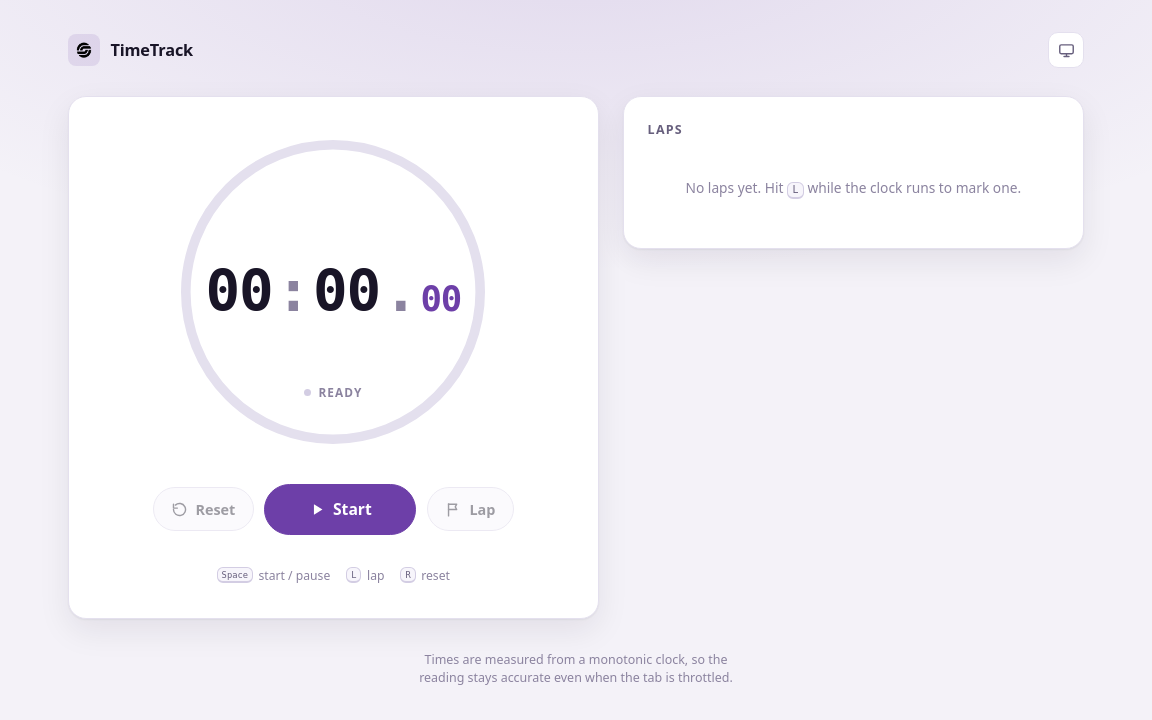
keyboard shortcuts and focused controls › still takes a letter shortcut while a button has focus
The image size is (1152, 720).
Click the button "Start" at (340, 509), box [264,484,416,535]
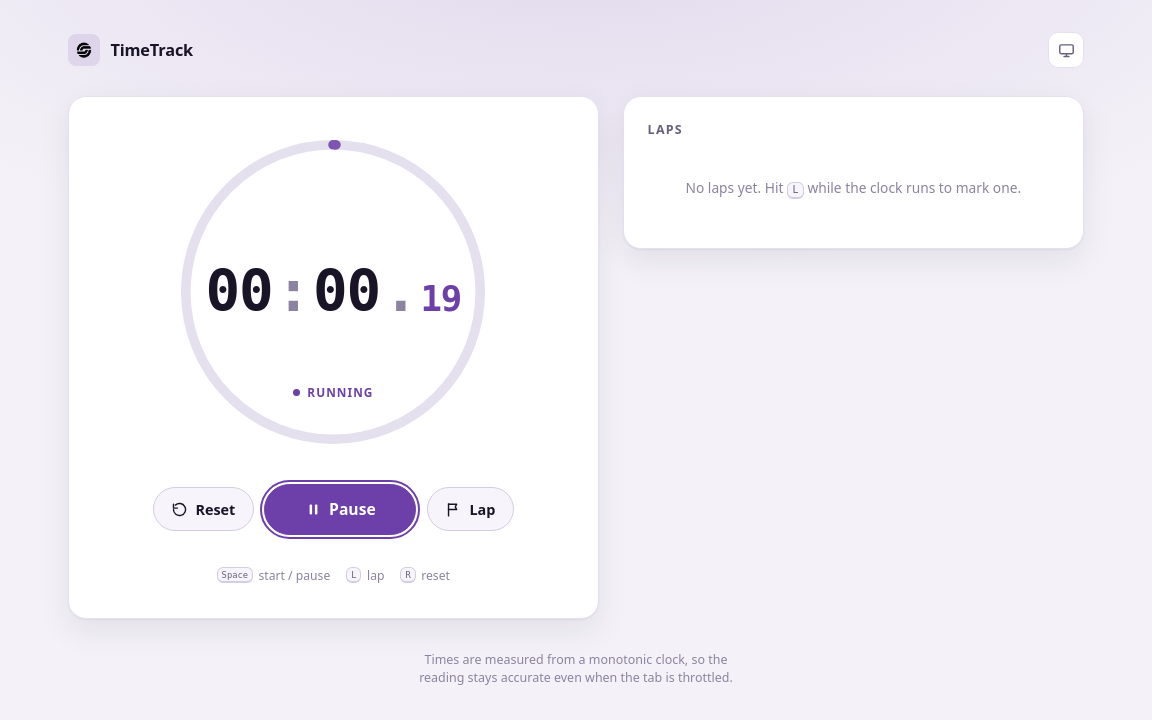
Type keys "l"
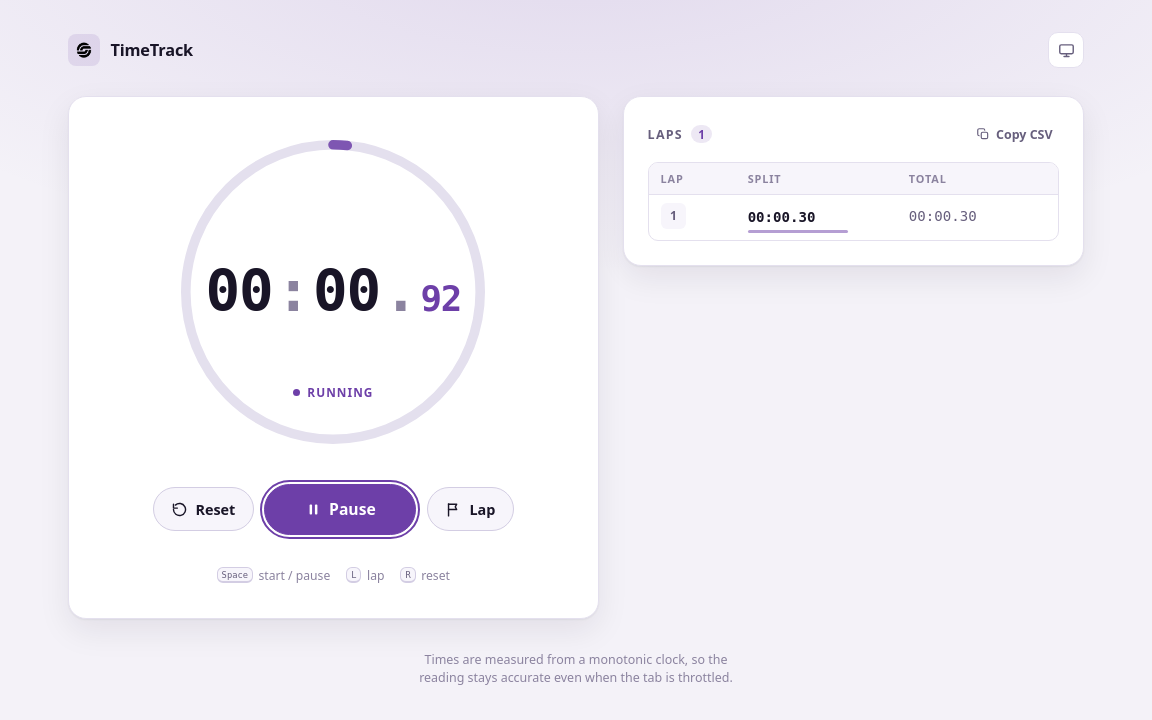
Expected: the button "Copy CSV" is shown, [970,121,1059,148]
